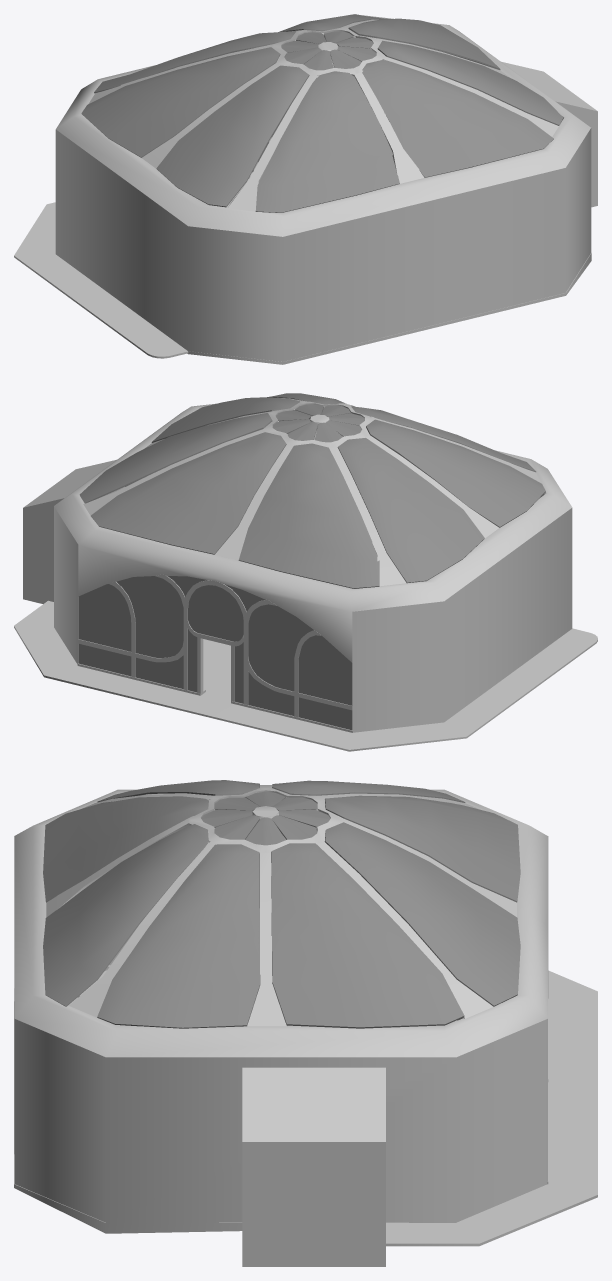
The model's file is SM_Penthouse_Groundwork.fbx.
The picture shows the model from 3 angles, top to bottom: view 1: azimuth 30°, elevation 25°; view 2: azimuth 150°, elevation 25°; view 3: azimuth 270°, elevation 25°; orthographic projection. The views are drawn at different scales.
Visible parts, largest first — view 1: Cube; view 2: Cube; view 3: Cube.
Part boxes in pixels (x1,y1,x2,y2): Cube: (14,14,597,364); Cube: (14,393,597,751); Cube: (14,780,597,1266).
Bounding box in the file's own units: 3727 × 1587 × 2885.
